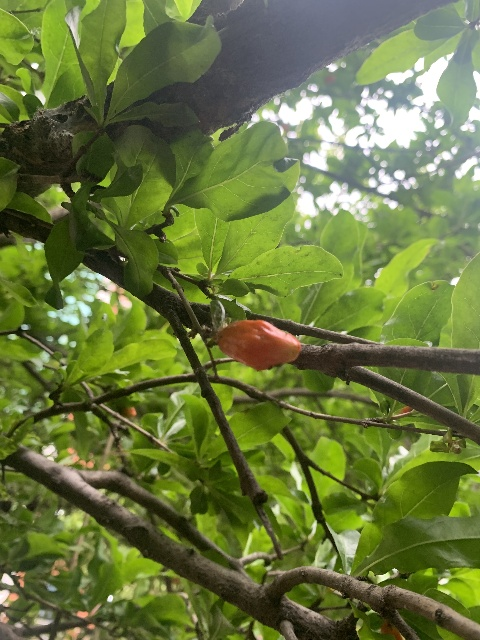bud: (215, 319, 300, 370)
